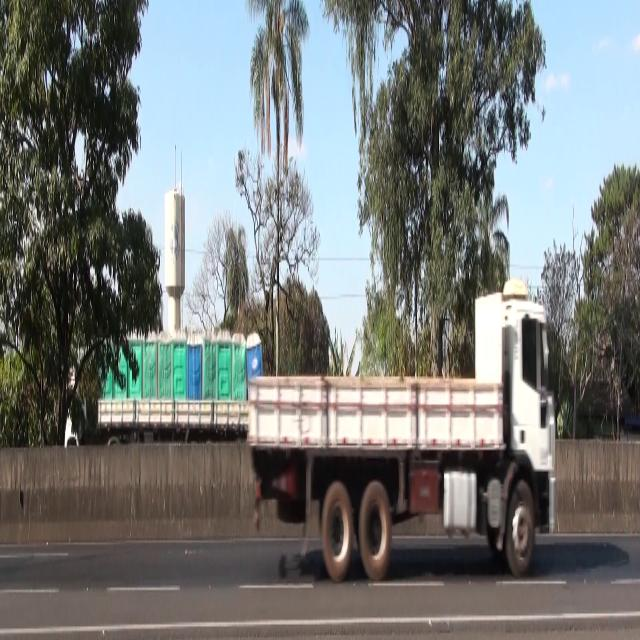-axle: (358, 479, 392, 585), (501, 479, 537, 577), (319, 478, 352, 584)
